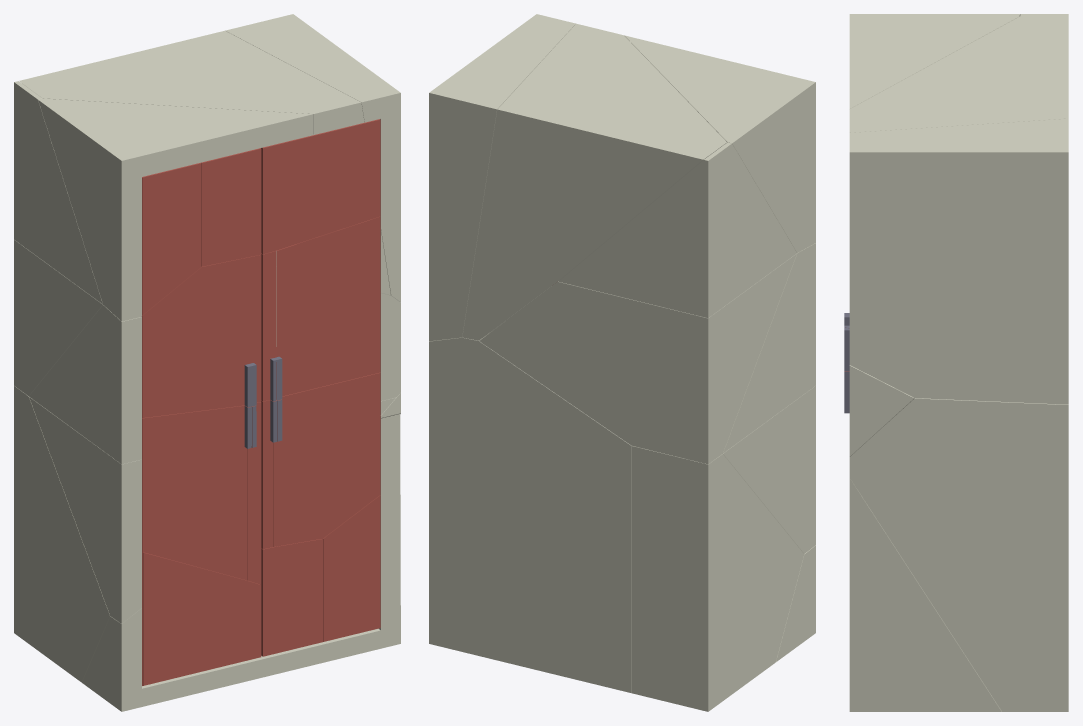
File: WardrobeShatter.fbx
The picture shows the model from 3 angles, left to right: view 1: azimuth 30°, elevation 25°; view 2: azimuth 150°, elevation 25°; view 3: azimuth 270°, elevation 25°; orthographic projection.
Parts seen in each view (by area): view 1: Cube_cell.003, Cube_cell.012, Cube.001_cell.009, Cube.001_cell.008, Cube_cell.005, Cube.002_cell.002, Cube.002_cell.005, Cube_cell.006, Cube.002_cell.009, Cube.001_cell.006, Cube_cell.011, Cube_cell.010 (+11 smaller); view 2: Cube_cell.008, Cube_cell.012, Cube_cell.005, Cube_cell.007, Cube_cell.009, Cube_cell.004, Cube_cell.003, Cube_cell.011, Cube_cell.010, Cube_cell.006; view 3: Cube_cell.004, Cube_cell.008, Cube_cell.006, Cube_cell.012, Cube_cell.003, Cube_cell.
Boxes of the visible parts, x1=… form: Cube_cell.003: x1=38, y1=98, x2=313, y2=321; Cube_cell.012: x1=19, y1=30, x2=364, y2=134; Cube.001_cell.009: x1=142, y1=405, x2=251, y2=580; Cube.001_cell.008: x1=142, y1=255, x2=261, y2=417; Cube_cell.005: x1=14, y1=386, x2=110, y2=682; Cube.002_cell.002: x1=276, y1=216, x2=380, y2=400; Cube.002_cell.005: x1=273, y1=372, x2=380, y2=546; Cube_cell.006: x1=82, y1=414, x2=400, y2=711; Cube.002_cell.009: x1=261, y1=119, x2=380, y2=254; Cube.001_cell.006: x1=142, y1=552, x2=261, y2=685; Cube_cell.011: x1=29, y1=397, x2=141, y2=623; Cube_cell.010: x1=29, y1=305, x2=141, y2=464; Cube_cell.008: x1=429, y1=331, x2=631, y2=692; Cube_cell.012: x1=462, y1=23, x2=726, y2=340; Cube_cell.005: x1=631, y1=446, x2=804, y2=711; Cube_cell.007: x1=479, y1=253, x2=796, y2=464; Cube_cell.009: x1=558, y1=142, x2=796, y2=317; Cube_cell.004: x1=429, y1=14, x2=575, y2=341; Cube_cell.003: x1=624, y1=35, x2=815, y2=252; Cube_cell.011: x1=723, y1=386, x2=815, y2=553; Cube_cell.010: x1=723, y1=243, x2=815, y2=453; Cube_cell.006: x1=776, y1=545, x2=815, y2=661; Cube_cell.004: x1=849, y1=118, x2=1068, y2=404; Cube_cell.008: x1=849, y1=398, x2=1068, y2=711; Cube_cell.006: x1=849, y1=478, x2=1001, y2=711; Cube_cell.012: x1=849, y1=16, x2=1068, y2=132; Cube_cell.003: x1=849, y1=14, x2=1019, y2=108; Cube_cell: x1=849, y1=365, x2=914, y2=456.
Bounding box in the file's own units: 200 × 377 × 137.
